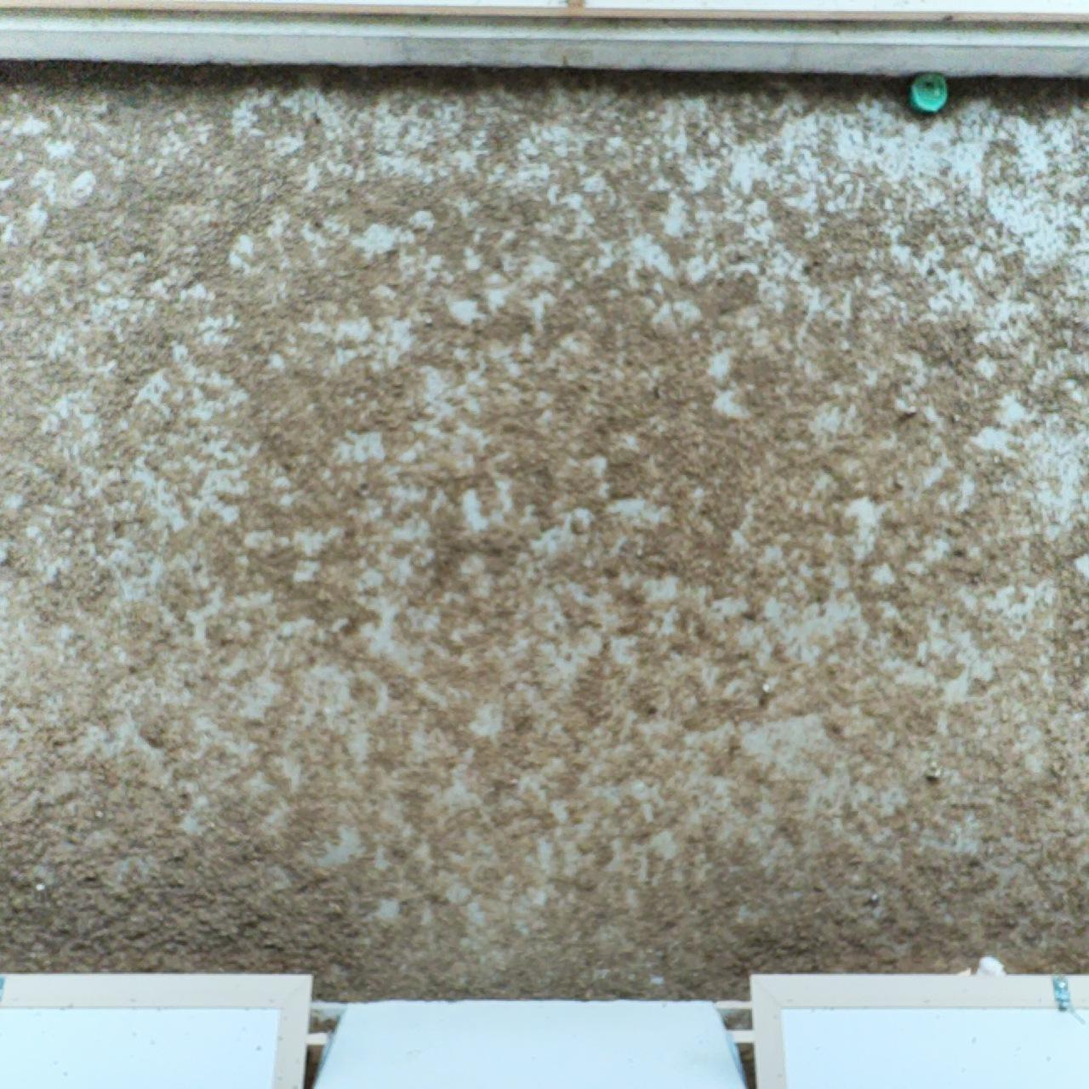chicken: (951, 952, 1014, 984)
